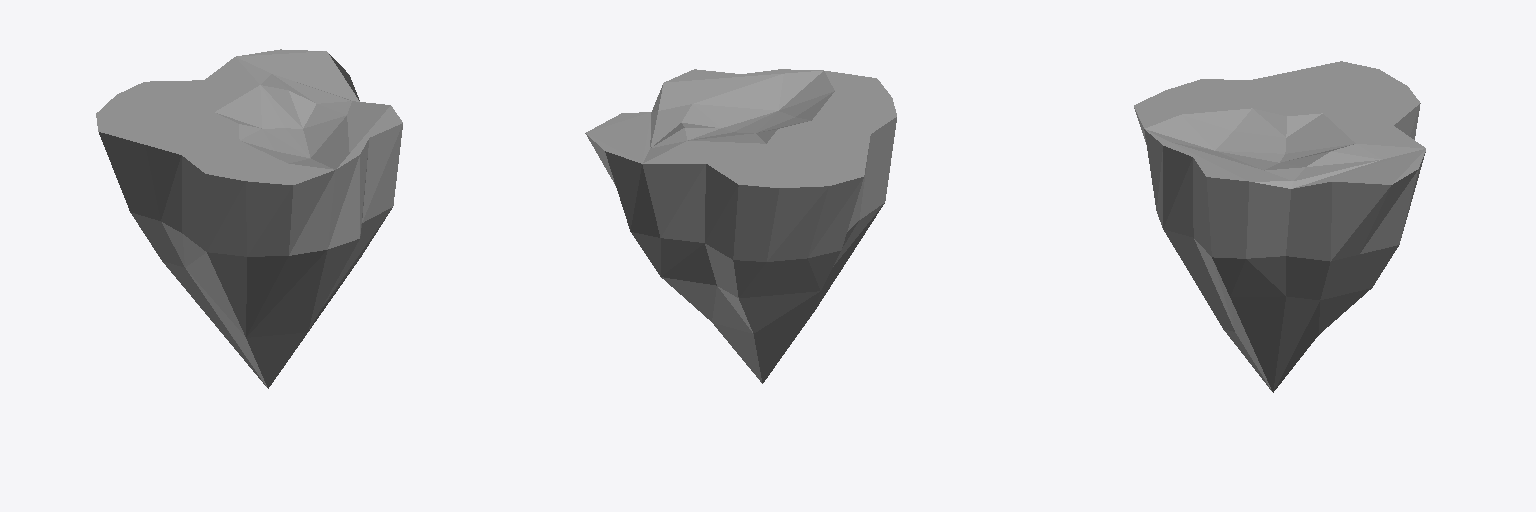
Rendered from bblock.obj.
3 renders of one model, left to right at view 1: azimuth 30°, elevation 25°; view 2: azimuth 150°, elevation 25°; view 3: azimuth 270°, elevation 25°, orthographic.
Parts seen in each view (by area): view 1: bblock; view 2: bblock; view 3: bblock.
Part boxes in pixels (left/top/right/bottom): bblock: left=96, top=49, right=402, bottom=388; bblock: left=585, top=69, right=896, bottom=383; bblock: left=1134, top=61, right=1425, bottom=392.
Bounding box in the file's own units: 2 × 2 × 2.